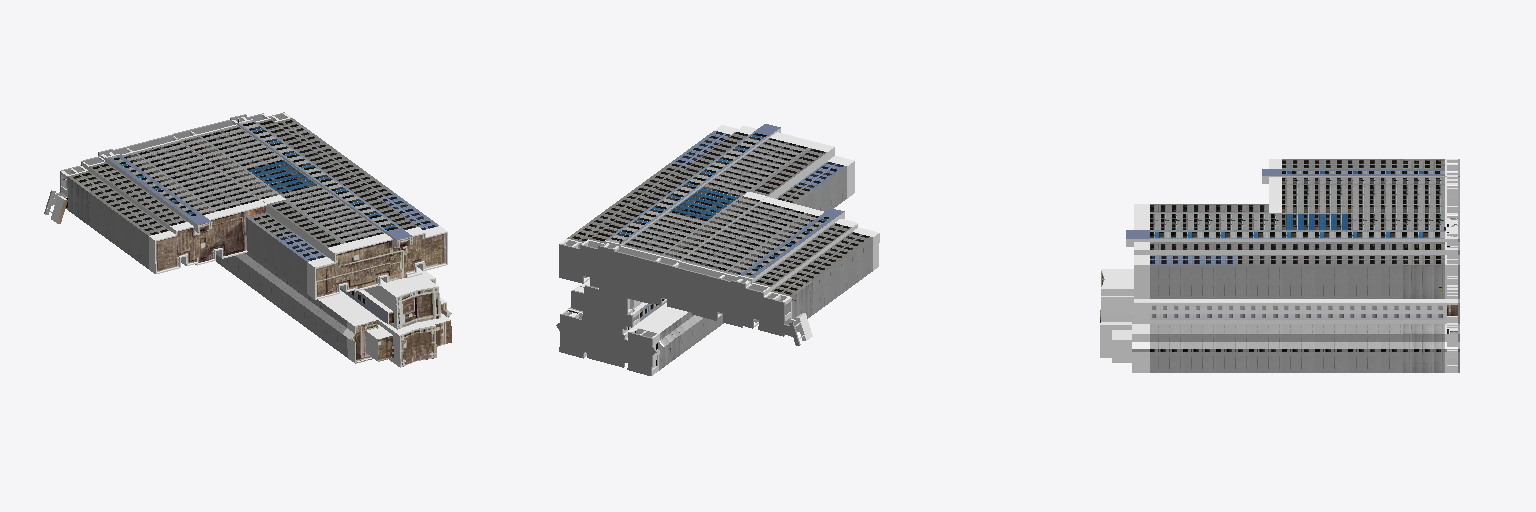
3 renders of one model, left to right at view 1: azimuth 30°, elevation 25°; view 2: azimuth 150°, elevation 25°; view 3: azimuth 270°, elevation 25°, orthographic.
Parts seen in each view (by area): view 1: polygon.784; view 2: polygon.784; view 3: polygon.784.
Boxes of the visible parts, x1,y1,x2,y2 form: polygon.784: [44, 112, 451, 367]; polygon.784: [556, 124, 879, 375]; polygon.784: [1100, 159, 1459, 372].
Bounding box in the file's own units: 70.37 × 33.65 × 90.13.
1 materials, 1 textured.